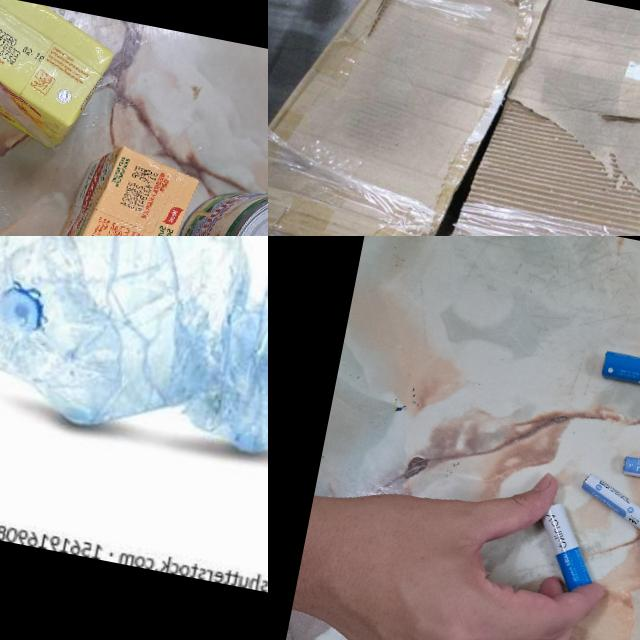bateria: (527, 497, 609, 596), (575, 471, 640, 533), (600, 349, 640, 394), (621, 452, 640, 490)
caixinha: (0, 0, 119, 156), (56, 138, 201, 236)
garrafa plástica: (0, 236, 268, 478)
papelão: (268, 0, 640, 236)
